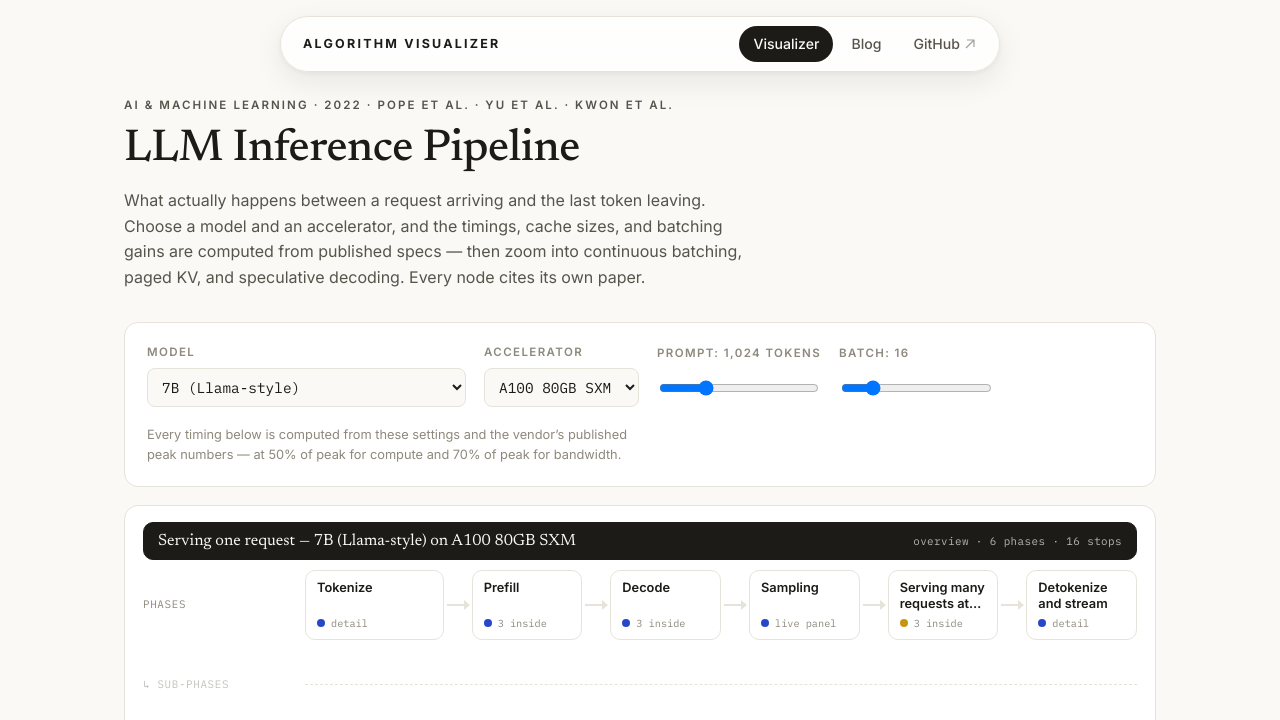
Test: phase player › draws every rail whatever the phase, so the graphic never changes height
Click the button "Tokenize detail" at (374, 605), box [305,570,444,640]
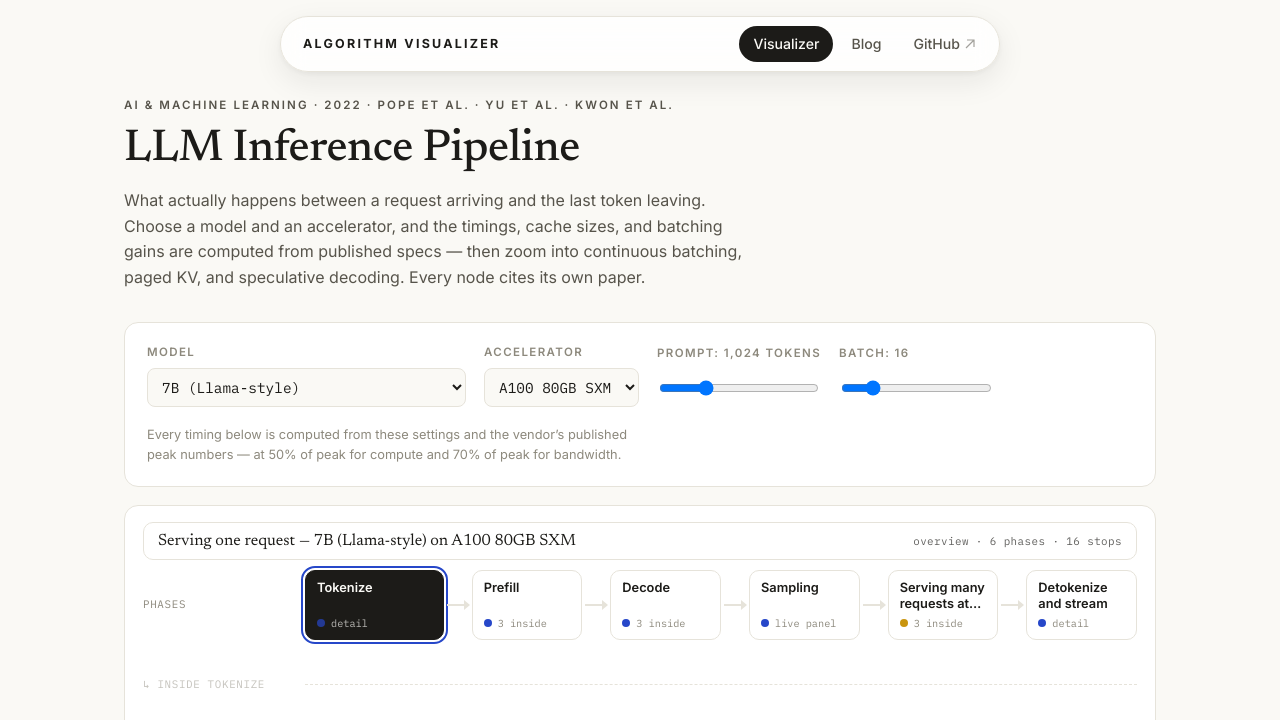
Expected: the element showing "↳ inside Tokenize" is shown, [143,677,265,691]
Click the button with aria-label "prefill — read the prompt" at (527, 605), box [472,570,582,640]
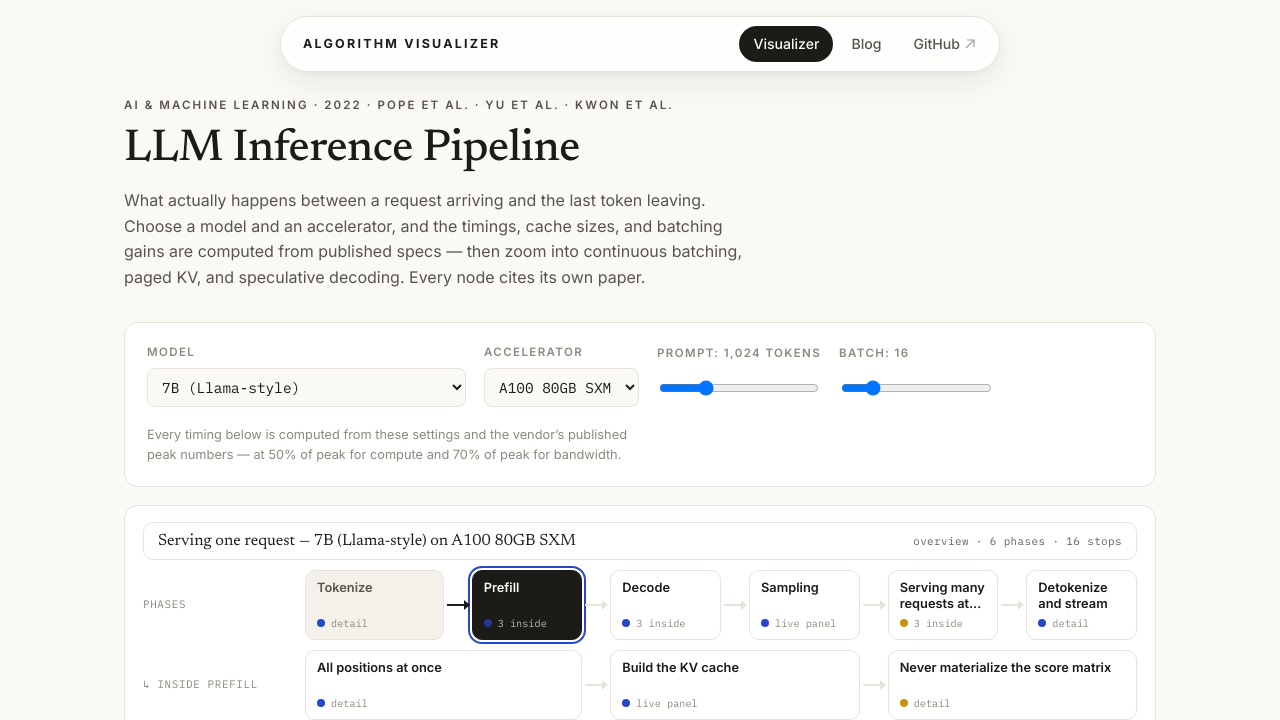
Result: the button "Build the KV cache live panel" is shown at [610,650,860,719]
